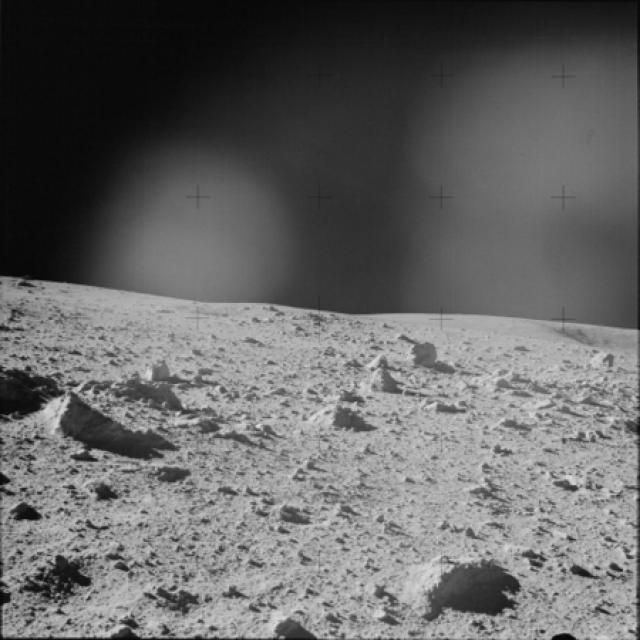rock: (391, 546, 508, 610), (81, 370, 188, 417), (38, 392, 116, 447), (300, 402, 376, 437), (189, 412, 272, 444), (360, 352, 396, 394), (0, 496, 38, 530), (402, 337, 445, 367), (86, 470, 119, 505), (585, 346, 621, 374), (146, 350, 176, 383), (483, 362, 520, 388), (262, 610, 295, 638)
